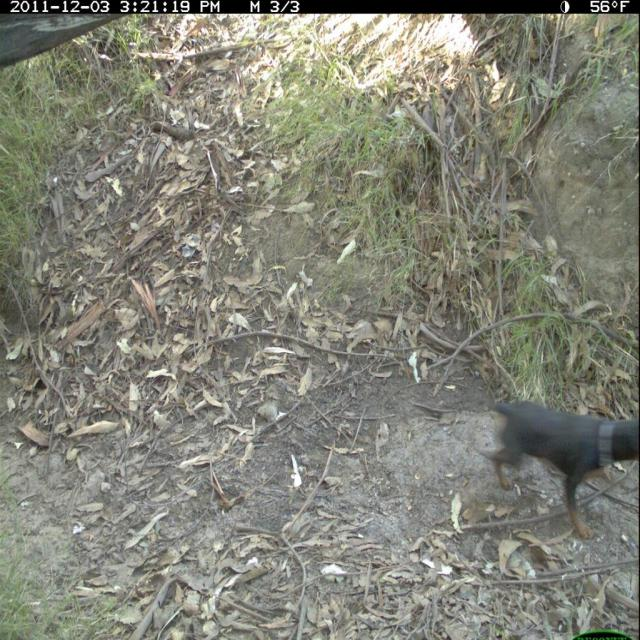dog: (465, 381, 640, 548)
